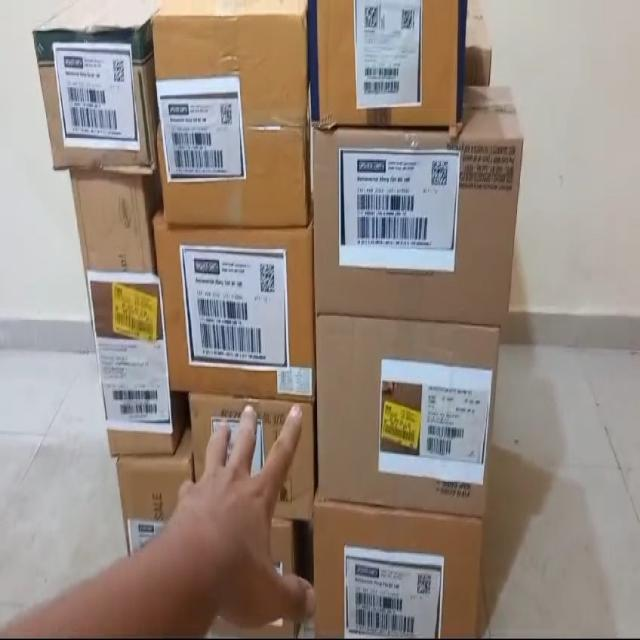BoxFace: (309, 122, 524, 326), (312, 312, 499, 512), (153, 11, 310, 234), (71, 166, 176, 455), (155, 228, 314, 405), (313, 510, 481, 640), (316, 2, 468, 133), (30, 25, 154, 172)
